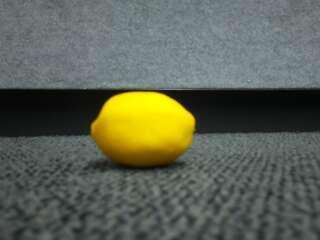lemon: (91, 91, 195, 165)
